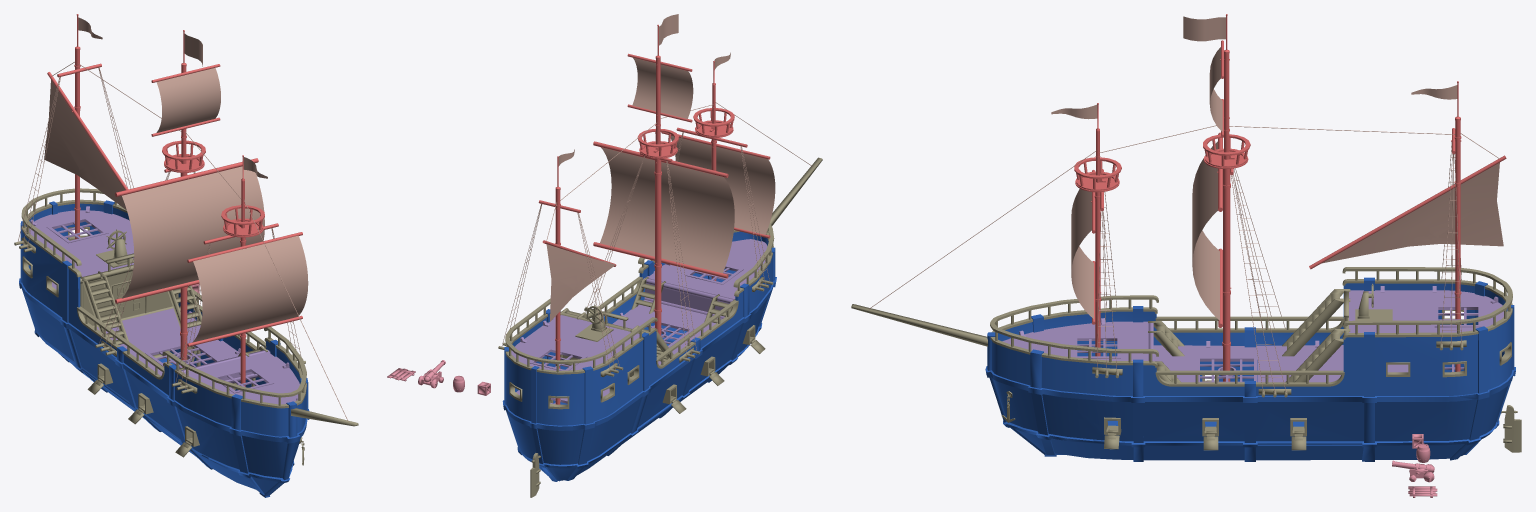
File: StylShip_Unity.fbx
3 views of the same model, side by side, from view 1: azimuth 30°, elevation 25°; view 2: azimuth 150°, elevation 25°; view 3: azimuth 270°, elevation 25° (orthographic). The views are drawn at different scales.
Parts seen in each view (by area): view 1: StylShip_Body, StylShip_SailMid1, StylShip_SailFront, StylShip_SailBack, StylShip_FloorBackTop, StylShip_FloorMid, StylShip_MastMid, StylShip_FloorFront, StylShip_SailMid2, StylShip_MastFront, StylShip_FencingFront, StylShip_StairsTop (+14 smaller); view 2: StylShip_Body, StylShip_SailMid1, StylShip_SailFront, StylShip_MastMid, StylShip_FloorFront, StylShip_FloorBackTop, StylShip_SailMid2, StylShip_SailBack, StylShip_FencingBack, StylShip_MastFront, StylShip_FloorMid, StylShip_FencingMid (+11 smaller); view 3: StylShip_Body, StylShip_SailBack, StylShip_FloorBackTop, StylShip_FloorMid, StylShip_MastMid, StylShip_FencingBack, StylShip_FencingMid, StylShip_FloorFront, StylShip_FencingFront, StylShip_SailMid1, StylShip_MastFront, StylShip_StairsTop (+15 smaller).
Boxes of the visible parts, x1=… form: StylShip_Body: x1=19, y1=200, x2=309, y2=497; StylShip_SailMid1: x1=122, y1=166, x2=264, y2=298; StylShip_SailFront: x1=192, y1=235, x2=308, y2=342; StylShip_SailBack: x1=44, y1=80, x2=126, y2=209; StylShip_FloorBackTop: x1=29, y1=206, x2=133, y2=276; StylShip_FloorMid: x1=97, y1=308, x2=240, y2=375; StylShip_MastMid: x1=115, y1=30, x2=258, y2=367; StylShip_FloorFront: x1=181, y1=349, x2=299, y2=404; StylShip_SailMid2: x1=156, y1=68, x2=220, y2=132; StylShip_MastFront: x1=187, y1=155, x2=302, y2=386; StylShip_FencingFront: x1=162, y1=327, x2=306, y2=408; StylShip_StairsTop: x1=80, y1=271, x2=201, y2=344; StylShip_Body: x1=502, y1=231, x2=776, y2=481; StylShip_SailMid1: x1=600, y1=147, x2=734, y2=273; StylShip_SailFront: x1=670, y1=135, x2=775, y2=234; StylShip_MastMid: x1=593, y1=24, x2=728, y2=335; StylShip_FloorFront: x1=643, y1=239, x2=767, y2=318; StylShip_FloorBackTop: x1=511, y1=315, x2=639, y2=370; StylShip_SailMid2: x1=632, y1=57, x2=693, y2=118; StylShip_SailBack: x1=546, y1=244, x2=615, y2=321; StylShip_FencingBack: x1=505, y1=298, x2=657, y2=374; StylShip_MastFront: x1=661, y1=61, x2=770, y2=280; StylShip_FloorMid: x1=612, y1=299, x2=722, y2=365; StylShip_FencingMid: x1=589, y1=276, x2=738, y2=368; StylShip_Body: x1=985, y1=277, x2=1515, y2=461; StylShip_SailBack: x1=1322, y1=162, x2=1503, y2=263; StylShip_FloorBackTop: x1=1349, y1=286, x2=1503, y2=332; StylShip_FloorMid: x1=1153, y1=340, x2=1343, y2=382; StylShip_MastMid: x1=1203, y1=14, x2=1250, y2=381; StylShip_FencingBack: x1=1342, y1=267, x2=1512, y2=339; StylShip_FencingMid: x1=1155, y1=316, x2=1344, y2=386; StylShip_FloorFront: x1=1002, y1=318, x2=1153, y2=361; StylShip_FencingFront: x1=990, y1=295, x2=1158, y2=367; StylShip_SailMid1: x1=1192, y1=141, x2=1219, y2=320; StylShip_MastFront: x1=1074, y1=103, x2=1121, y2=356; StylShip_StairsTop: x1=1282, y1=289, x2=1350, y2=382.
Size of the model in its own units: 267 by 396 by 544.
